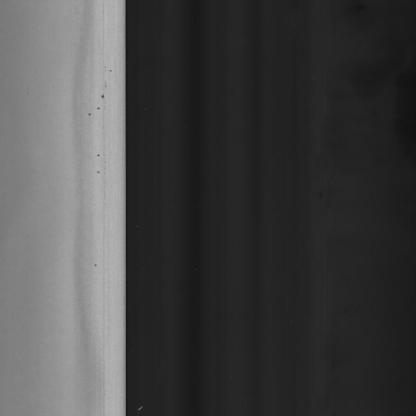inclusion: (86, 102, 101, 120), (98, 82, 110, 102), (95, 146, 101, 178)
